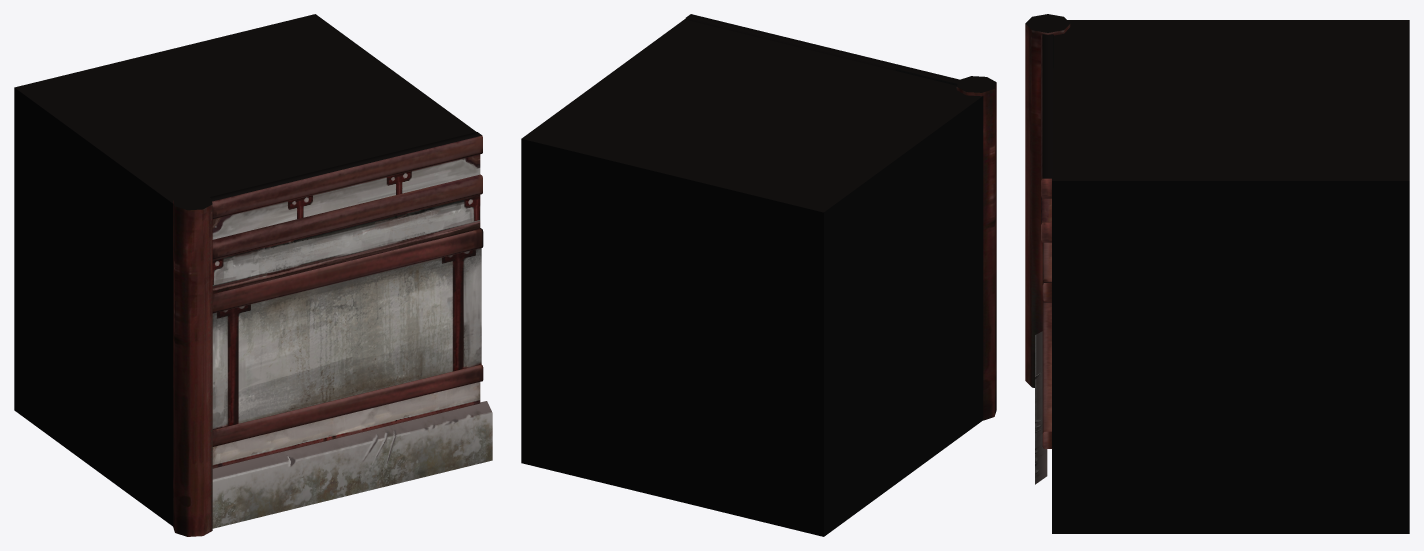
File: STR_WallSimpleShortB.FBX
3 renders of one model, left to right at view 1: azimuth 30°, elevation 25°; view 2: azimuth 150°, elevation 25°; view 3: azimuth 270°, elevation 25°, orthographic. The views are drawn at different scales.
Parts seen in each view (by area): view 1: STR_WallSimpleShortB; view 2: STR_WallSimpleShortB; view 3: STR_WallSimpleShortB.
Boxes of the visible parts, left/top/right/bottom form: STR_WallSimpleShortB: left=14, top=14, right=492, bottom=536; STR_WallSimpleShortB: left=521, top=14, right=996, bottom=536; STR_WallSimpleShortB: left=1025, top=14, right=1409, bottom=533.
Size of the model in its own units: 310 by 311 by 303.
Materials: 1 (1 with a texture image).
